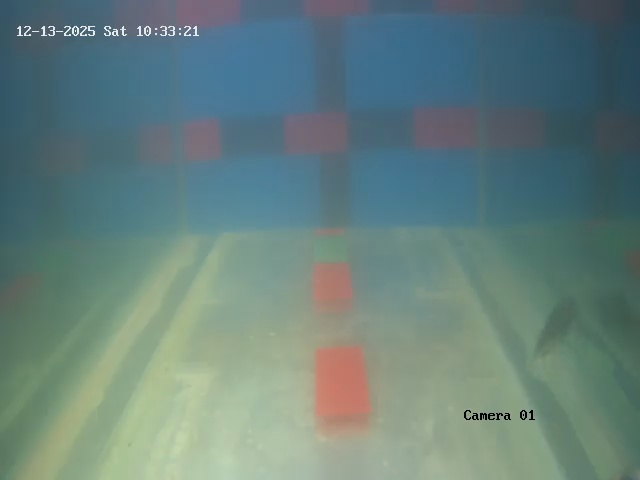fish: (528, 289, 589, 361)
